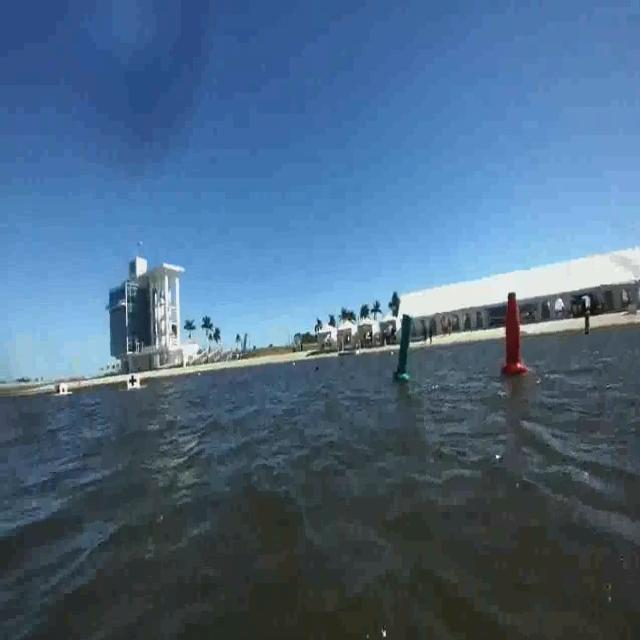green-column-buoy: (392, 312, 414, 383)
red-column-buoy: (501, 294, 529, 379)
